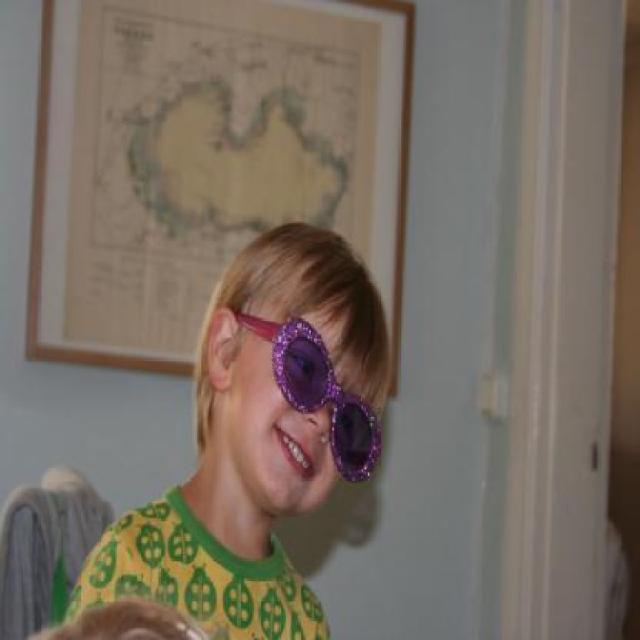face_nomask: (267, 327, 365, 485)
glasses: (220, 313, 368, 459)
head_nohelmet: (265, 218, 401, 342)
